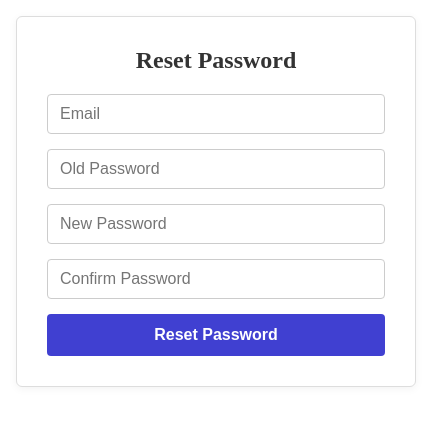
it: ResetPassword › shows a success message after valid submission
In the field with placeholder "Email": (216, 114) [47,94,385,134], type "user@example.com"
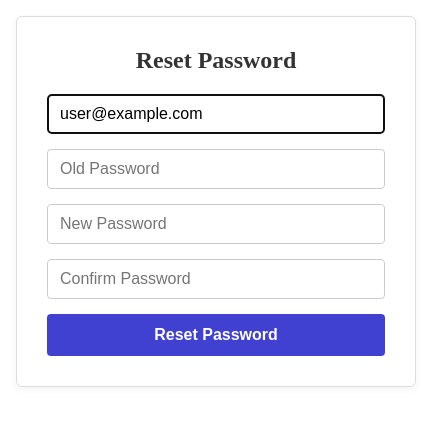
In the password field with placeholder "Old Password": (216, 169) [47,149,385,189], type "oldpass123"
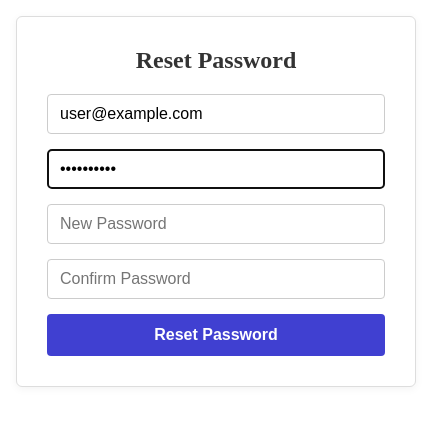
In the password field with placeholder "New Password": (216, 224) [47,204,385,244], type "newpass456"
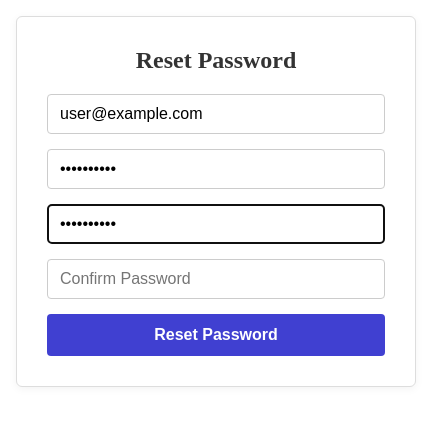
In the password field with placeholder "Confirm Password": (216, 279) [47,259,385,299], type "newpass456"
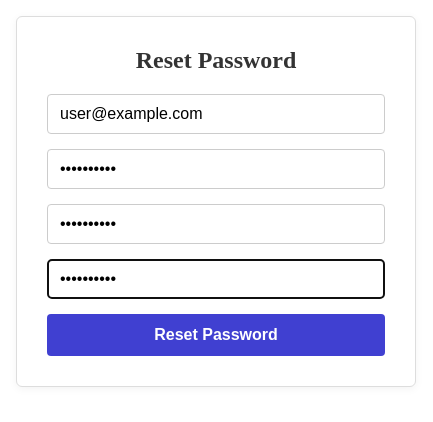
Click the button "Reset Password": (216, 335) [47,314,385,356]
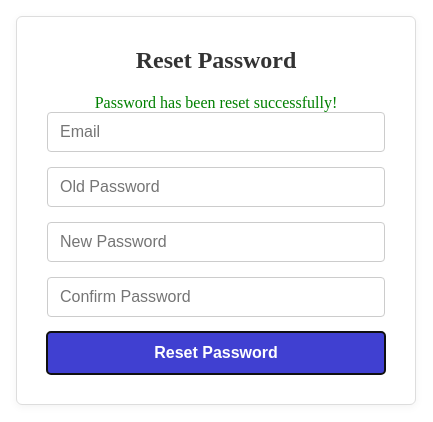
Now the text "Password has been reset successfully!" is shown, box [95,94,337,111]
